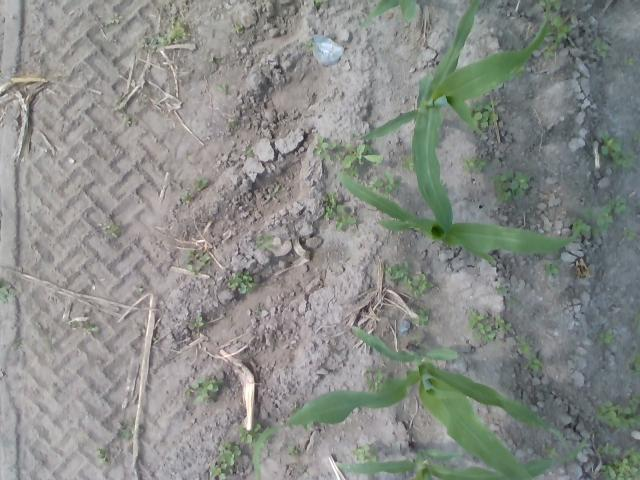Maize: (254, 325, 580, 480), (361, 0, 501, 268), (360, 12, 548, 140), (334, 168, 576, 265), (334, 437, 588, 480), (359, 0, 425, 36)
Weeds: (572, 198, 626, 238), (593, 396, 640, 431), (466, 308, 511, 343), (342, 142, 384, 179), (540, 14, 574, 57), (321, 192, 357, 232), (491, 169, 532, 204), (599, 134, 640, 168), (600, 447, 640, 480), (208, 442, 240, 480), (183, 375, 224, 404), (466, 98, 500, 132), (366, 171, 402, 196), (236, 422, 270, 448), (312, 136, 346, 162), (382, 260, 410, 286), (227, 270, 257, 294), (164, 17, 190, 43), (409, 272, 434, 298), (184, 250, 210, 275), (290, 407, 314, 431), (352, 442, 378, 463), (138, 34, 169, 51), (462, 156, 490, 174), (364, 368, 383, 392), (412, 307, 431, 326), (524, 352, 542, 372), (101, 220, 123, 236), (630, 345, 640, 377), (0, 282, 13, 306), (96, 444, 110, 466), (515, 336, 533, 353), (117, 419, 132, 439), (594, 37, 608, 58), (256, 234, 274, 250), (598, 442, 620, 455), (543, 260, 561, 275), (598, 329, 616, 343), (542, 445, 560, 459), (538, 0, 562, 10), (85, 319, 102, 333), (402, 155, 416, 172), (187, 316, 204, 330), (194, 176, 209, 190), (300, 39, 315, 52), (286, 445, 302, 456), (215, 81, 228, 94), (514, 66, 524, 82), (624, 229, 638, 240), (104, 17, 121, 26), (495, 285, 510, 295), (121, 114, 132, 126), (634, 310, 640, 332), (233, 23, 244, 34), (244, 146, 254, 158), (409, 338, 422, 346), (624, 57, 634, 66), (71, 320, 79, 329), (182, 193, 190, 202), (312, 0, 322, 5)
